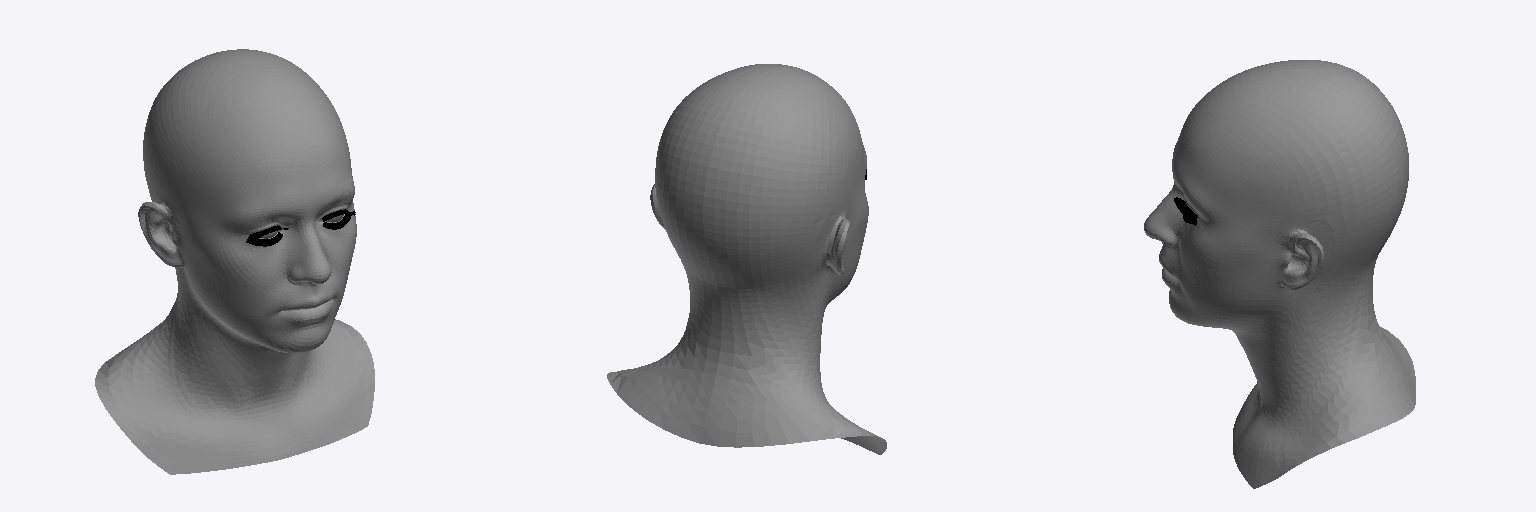
File: eyeLookIn_R.obj
3 renders of one model, left to right at view 1: azimuth 30°, elevation 25°; view 2: azimuth 150°, elevation 25°; view 3: azimuth 270°, elevation 25°, orthographic.
Size of the model in its own units: 24.83 by 33.81 by 22.32.